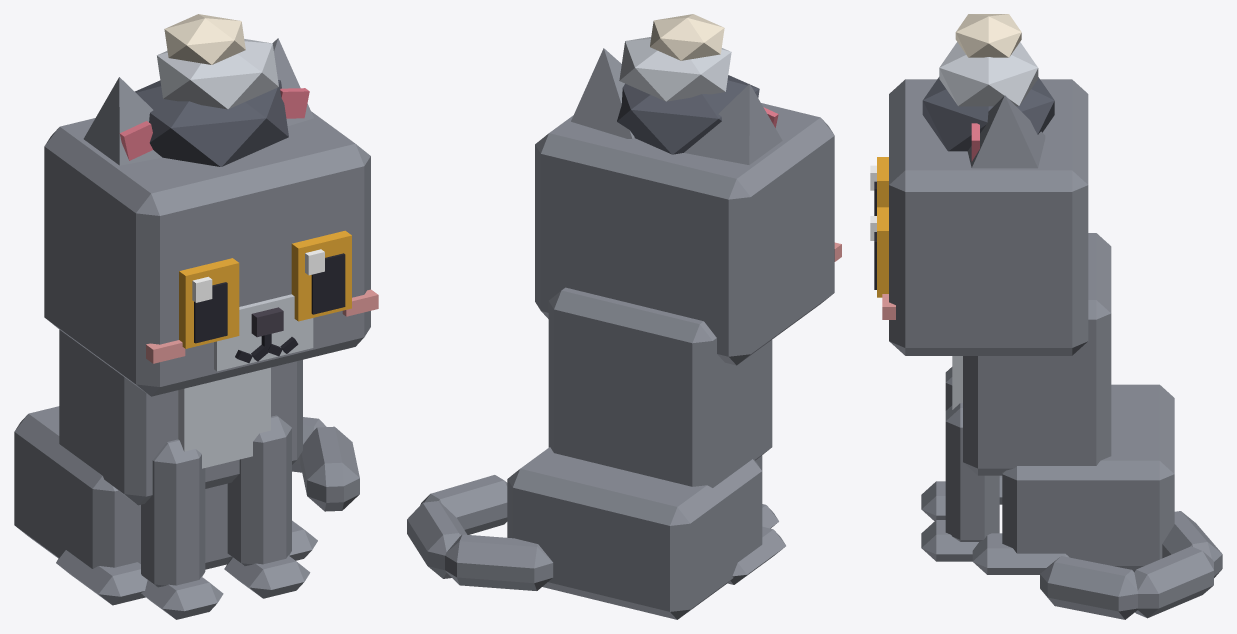
File: CatCafe_Cat_Pebble_Sit.fbx
3 renders of one model, left to right at view 1: azimuth 30°, elevation 25°; view 2: azimuth 150°, elevation 25°; view 3: azimuth 270°, elevation 25°, orthographic. The views are drawn at different scales.
Parts seen in each view (by area): view 1: CatCafe_Cat_Pebble_Sit_Head, CatCafe_Cat_Pebble_Sit_Body, CatCafe_Cat_Pebble_Sit_Prop, CatCafe_Cat_Pebble_Sit_LegF2, CatCafe_Cat_Pebble_Sit_LegF1, CatCafe_Cat_Pebble_Sit_Eye2, CatCafe_Cat_Pebble_Sit_Eye1, CatCafe_Cat_Pebble_Sit_Tail, CatCafe_Cat_Pebble_Sit_EarR, CatCafe_Cat_Pebble_Sit_EarL; view 2: CatCafe_Cat_Pebble_Sit_Body, CatCafe_Cat_Pebble_Sit_Head, CatCafe_Cat_Pebble_Sit_Prop, CatCafe_Cat_Pebble_Sit_Tail, CatCafe_Cat_Pebble_Sit_EarR, CatCafe_Cat_Pebble_Sit_EarL; view 3: CatCafe_Cat_Pebble_Sit_Head, CatCafe_Cat_Pebble_Sit_Body, CatCafe_Cat_Pebble_Sit_Prop, CatCafe_Cat_Pebble_Sit_Tail, CatCafe_Cat_Pebble_Sit_LegF1, CatCafe_Cat_Pebble_Sit_EarL, CatCafe_Cat_Pebble_Sit_Eye1, CatCafe_Cat_Pebble_Sit_LegF2, CatCafe_Cat_Pebble_Sit_Eye2.
Boxes of the visible parts, left/top/right/bottom form: CatCafe_Cat_Pebble_Sit_Head: left=44, top=111, right=378, bottom=396; CatCafe_Cat_Pebble_Sit_Body: left=14, top=330, right=317, bottom=605; CatCafe_Cat_Pebble_Sit_Prop: left=135, top=14, right=288, bottom=166; CatCafe_Cat_Pebble_Sit_LegF2: left=141, top=439, right=223, bottom=619; CatCafe_Cat_Pebble_Sit_LegF1: left=224, top=415, right=310, bottom=598; CatCafe_Cat_Pebble_Sit_Eye2: left=179, top=258, right=239, bottom=348; CatCafe_Cat_Pebble_Sit_Eye1: left=291, top=230, right=351, bottom=321; CatCafe_Cat_Pebble_Sit_Tail: left=292, top=417, right=359, bottom=511; CatCafe_Cat_Pebble_Sit_EarR: left=83, top=77, right=161, bottom=165; CatCafe_Cat_Pebble_Sit_EarL: left=272, top=38, right=313, bottom=125; CatCafe_Cat_Pebble_Sit_Body: left=507, top=287, right=785, bottom=619; CatCafe_Cat_Pebble_Sit_Head: left=535, top=103, right=841, bottom=365; CatCafe_Cat_Pebble_Sit_Prop: left=617, top=14, right=759, bottom=154; CatCafe_Cat_Pebble_Sit_Tail: left=407, top=475, right=553, bottom=590; CatCafe_Cat_Pebble_Sit_EarR: left=684, top=84, right=782, bottom=164; CatCafe_Cat_Pebble_Sit_EarL: left=571, top=48, right=634, bottom=138; CatCafe_Cat_Pebble_Sit_Head: left=882, top=79, right=1088, bottom=355; CatCafe_Cat_Pebble_Sit_Body: left=952, top=233, right=1174, bottom=574; CatCafe_Cat_Pebble_Sit_Prop: left=922, top=14, right=1054, bottom=151; CatCafe_Cat_Pebble_Sit_Tail: left=1040, top=511, right=1222, bottom=619; CatCafe_Cat_Pebble_Sit_LegF1: left=921, top=403, right=999, bottom=561; CatCafe_Cat_Pebble_Sit_EarL: left=967, top=95, right=1045, bottom=168; CatCafe_Cat_Pebble_Sit_Eye1: left=870, top=207, right=888, bottom=297; CatCafe_Cat_Pebble_Sit_LegF2: left=921, top=367, right=952, bottom=521; CatCafe_Cat_Pebble_Sit_Eye2: left=870, top=157, right=888, bottom=215.
Size of the model in its own units: 1.24 by 2.01 by 1.24.
1 material, 1 textured.
